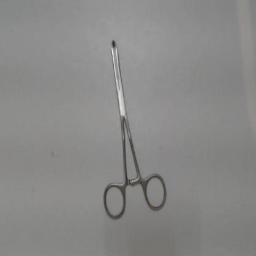Allis Tissue Forceps: (99, 33, 171, 225)
